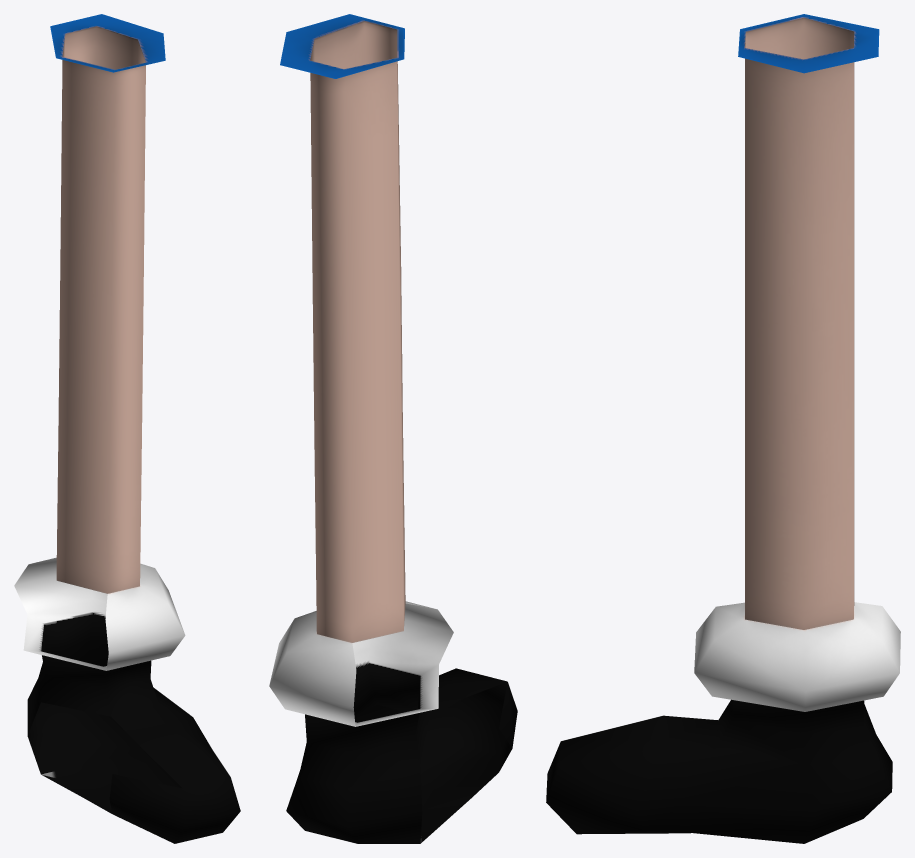
File: piernaDer.fbx
The picture shows the model from 3 angles, left to right: view 1: azimuth 30°, elevation 25°; view 2: azimuth 150°, elevation 25°; view 3: azimuth 270°, elevation 25°; orthographic projection. The views are drawn at different scales.
Parts seen in each view (by area): view 1: Finn; view 2: Finn; view 3: Finn.
Boxes of the visible parts, box(x1,y1,x2,y2) form: Finn: box(14, 14, 240, 843); Finn: box(269, 14, 517, 843); Finn: box(546, 14, 900, 843).
Bounding box in the file's own units: 548 × 2573 × 1052.
